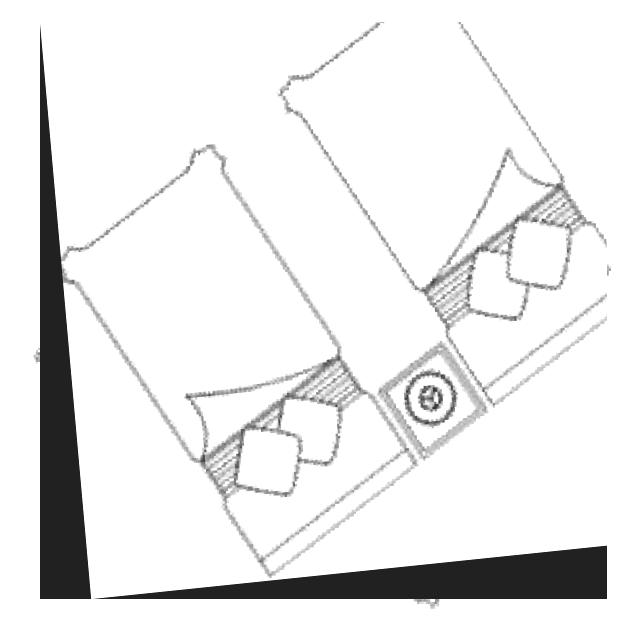bed: (40, 22, 607, 599)
